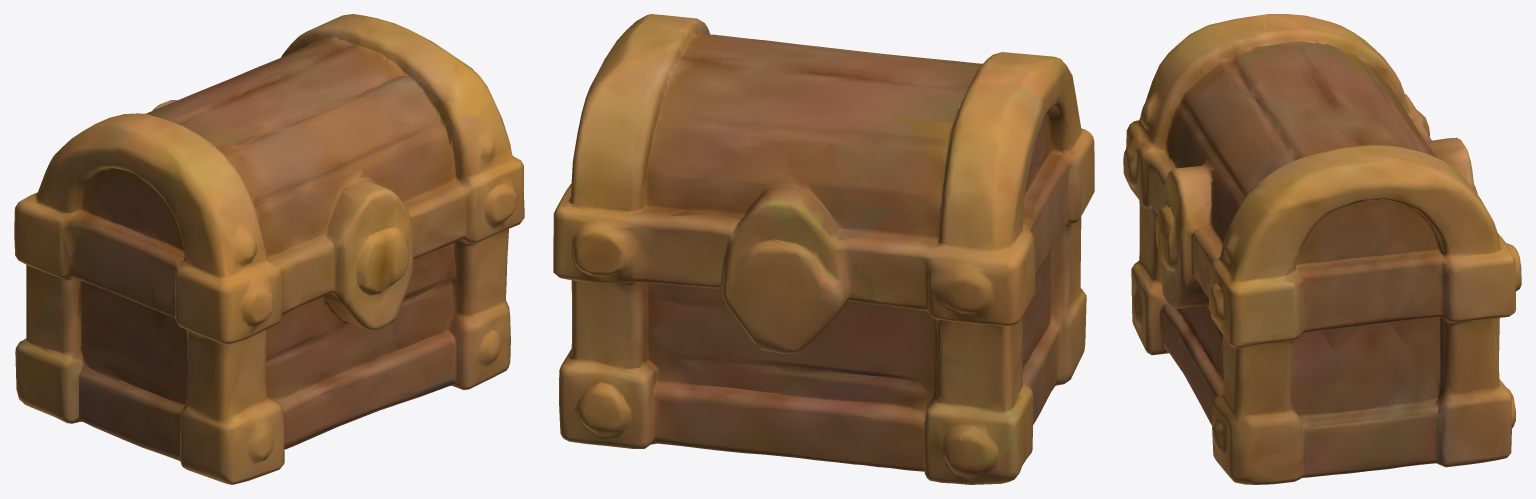
File: cofre.glb
3 views of the same model, side by side, from view 1: azimuth 30°, elevation 25°; view 2: azimuth 150°, elevation 25°; view 3: azimuth 270°, elevation 25° (orthographic). The views are drawn at different scales.
Visible parts, largest first — view 1: cofre_malla; view 2: cofre_malla; view 3: cofre_malla.
Boxes of the visible parts, x1=… form: cofre_malla: x1=14, y1=14, x2=524, y2=484; cofre_malla: x1=553, y1=14, x2=1094, y2=484; cofre_malla: x1=1123, y1=14, x2=1521, y2=484.
Bounding box in the file's own units: 0.1413 × 0.0993 × 0.1171.
1 material, 1 textured.
